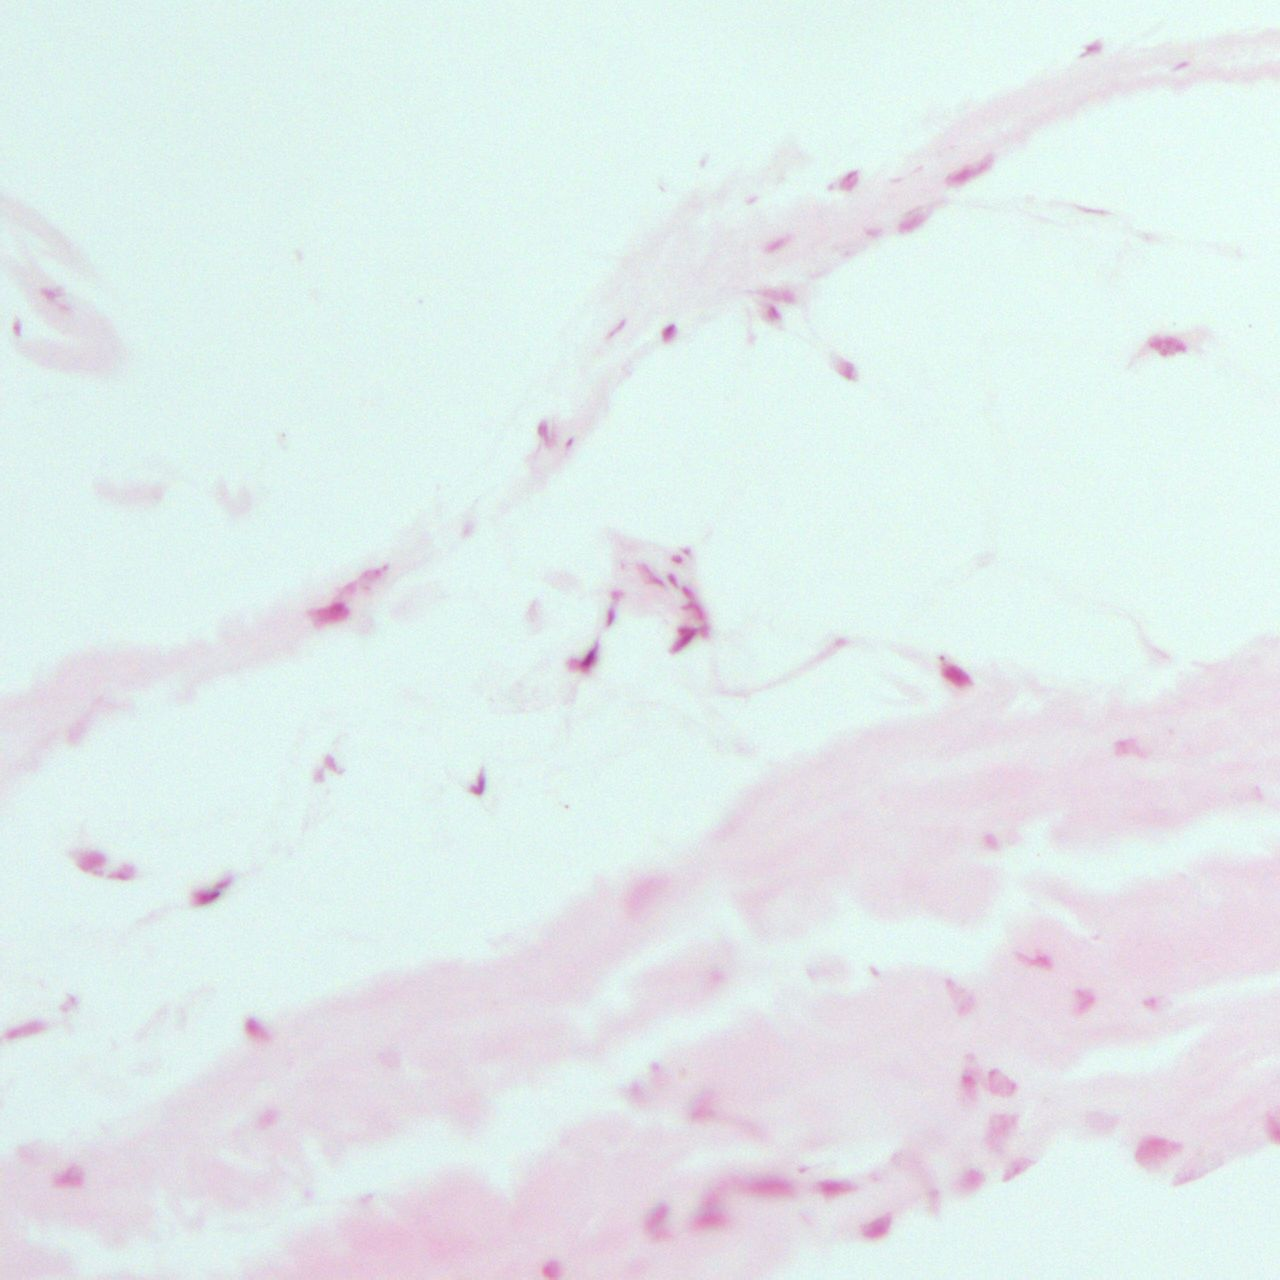nucleus-AC: (942, 151, 1001, 193), (560, 633, 607, 685), (336, 561, 388, 598), (894, 199, 942, 238), (1133, 1133, 1178, 1175), (308, 595, 353, 635), (959, 1050, 986, 1105), (944, 976, 975, 1020), (998, 1150, 1037, 1184), (741, 1172, 797, 1196), (1, 1017, 49, 1043), (665, 622, 696, 658), (988, 1114, 1019, 1150), (184, 884, 225, 911), (753, 282, 804, 302), (939, 663, 976, 690), (760, 229, 794, 258), (988, 1068, 1019, 1099), (1148, 334, 1189, 358), (835, 164, 865, 195), (687, 1092, 719, 1122), (605, 311, 633, 343), (646, 1199, 672, 1234), (1012, 949, 1053, 971), (53, 1164, 89, 1187), (72, 849, 104, 874), (813, 1179, 856, 1199), (865, 1212, 894, 1240), (251, 1107, 281, 1133), (313, 753, 342, 779), (1070, 987, 1096, 1017), (1111, 735, 1145, 756), (638, 561, 663, 588), (956, 1167, 983, 1192), (1141, 993, 1173, 1012), (760, 301, 779, 328), (695, 1211, 726, 1228), (537, 418, 556, 445), (244, 1017, 267, 1039), (833, 360, 857, 380), (108, 865, 138, 880), (540, 1260, 563, 1280), (699, 1187, 719, 1210), (468, 769, 484, 795), (681, 600, 704, 618), (661, 324, 681, 343), (604, 602, 619, 627), (983, 833, 1005, 850), (40, 287, 63, 301), (11, 316, 22, 338), (215, 877, 236, 887), (610, 585, 624, 598), (681, 587, 694, 601), (666, 574, 678, 588), (672, 554, 683, 567), (681, 546, 692, 560), (564, 436, 574, 450), (649, 1062, 661, 1074)
